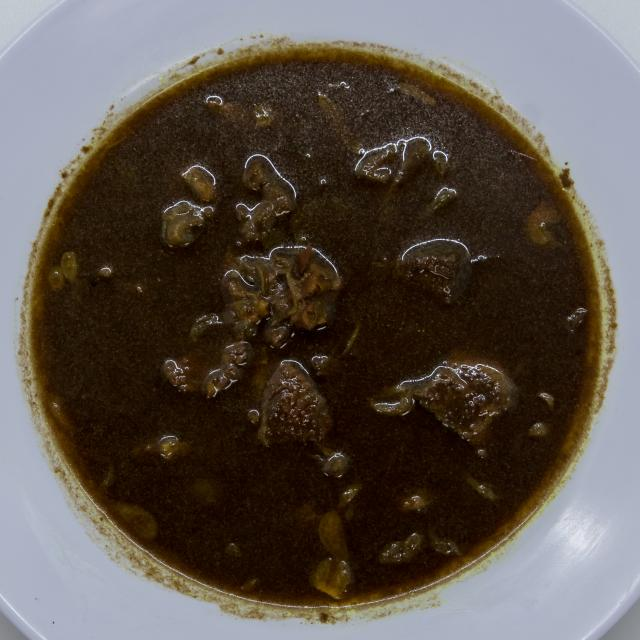Rawon-Surabaya: (16, 41, 604, 620)
